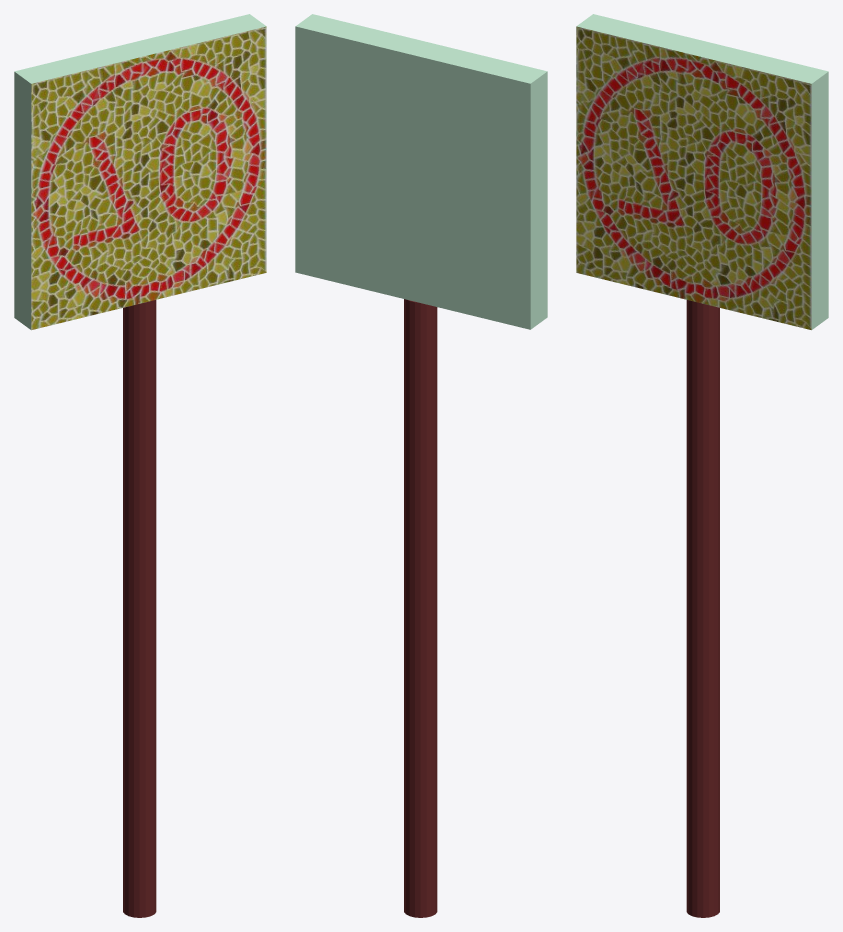
File: ogr.dae
3 views of the same model, side by side, from view 1: azimuth 30°, elevation 25°; view 2: azimuth 150°, elevation 25°; view 3: azimuth 330°, elevation 25° (orthographic).
Parts seen in each view (by area): view 1: BSD_Material_d_ogr_14, CSD_Material_d_ogr_37, BSD_Material_d_ogr_15; view 2: BSD_Material_d_ogr_15, CSD_Material_d_ogr_37; view 3: BSD_Material_d_ogr_14, CSD_Material_d_ogr_37, BSD_Material_d_ogr_15.
Part boxes in pixels (box(x1,y1,x2,y2)): BSD_Material_d_ogr_14: box(31, 26, 266, 329); CSD_Material_d_ogr_37: box(123, 300, 156, 917); BSD_Material_d_ogr_15: box(14, 14, 266, 329); BSD_Material_d_ogr_15: box(295, 14, 547, 329); CSD_Material_d_ogr_37: box(404, 299, 437, 917); BSD_Material_d_ogr_14: box(576, 26, 811, 329); CSD_Material_d_ogr_37: box(686, 300, 719, 917); BSD_Material_d_ogr_15: box(576, 14, 828, 329).
Size of the model in its own units: 1.57 by 0.2043 by 5.51.
